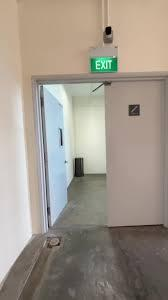exit: (35, 76, 167, 230)
lit_exit_sign: (91, 57, 117, 72)
